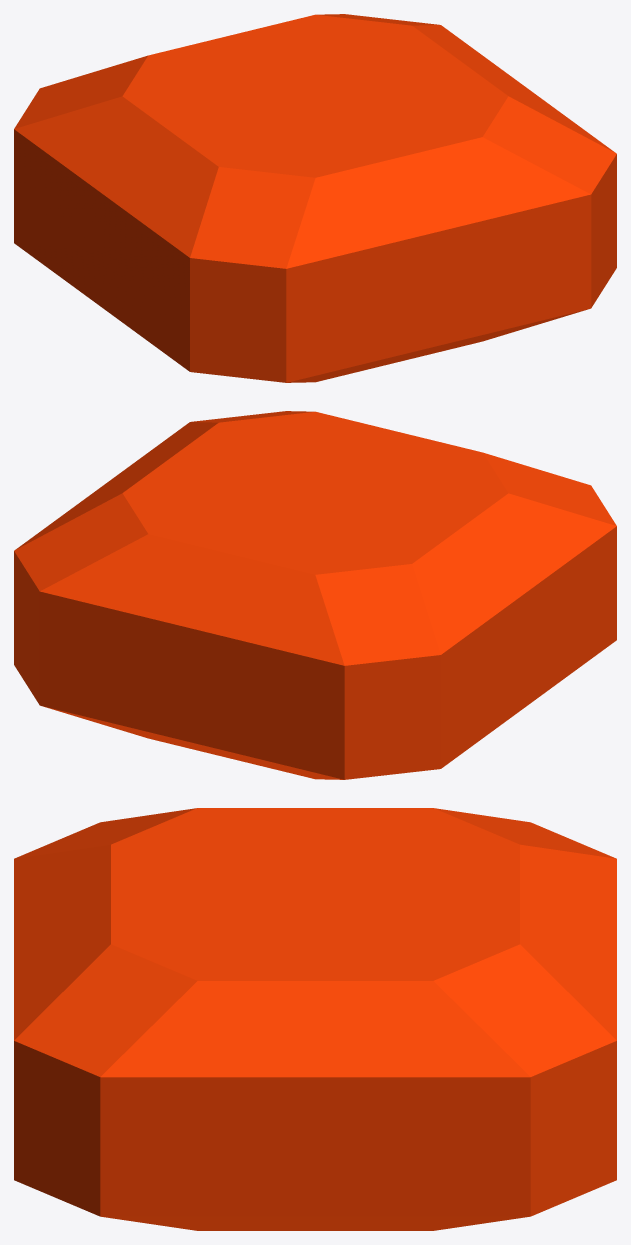
3 renders of one model, top to bottom at view 1: azimuth 30°, elevation 25°; view 2: azimuth 150°, elevation 25°; view 3: azimuth 270°, elevation 25°, orthographic. The views are drawn at different scales.
Parts seen in each view (by area): view 1: Cube.033; view 2: Cube.033; view 3: Cube.033.
Boxes of the visible parts, x1=… form: Cube.033: x1=14, y1=14, x2=616, y2=382; Cube.033: x1=14, y1=411, x2=616, y2=779; Cube.033: x1=14, y1=808, x2=616, y2=1230.
Bounding box in the file's own units: 0.5 × 0.2288 × 0.5.
1 material, 1 textured.
